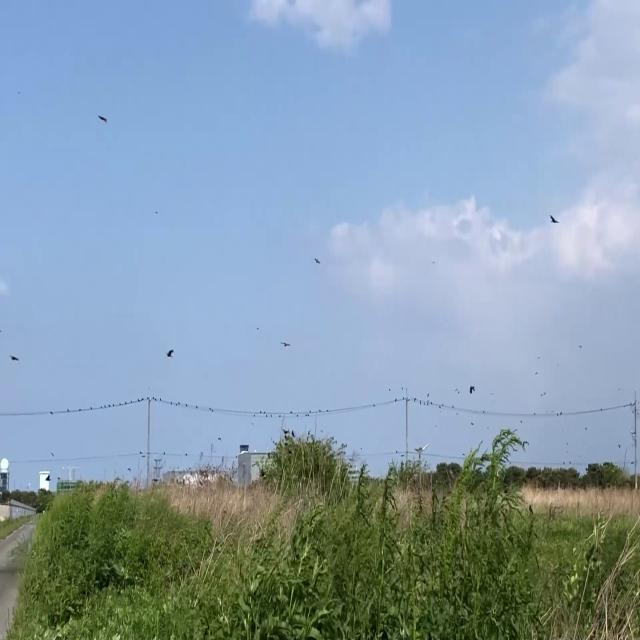bird: (98, 109, 107, 129), (550, 208, 558, 229), (167, 342, 174, 361), (469, 380, 475, 396)
